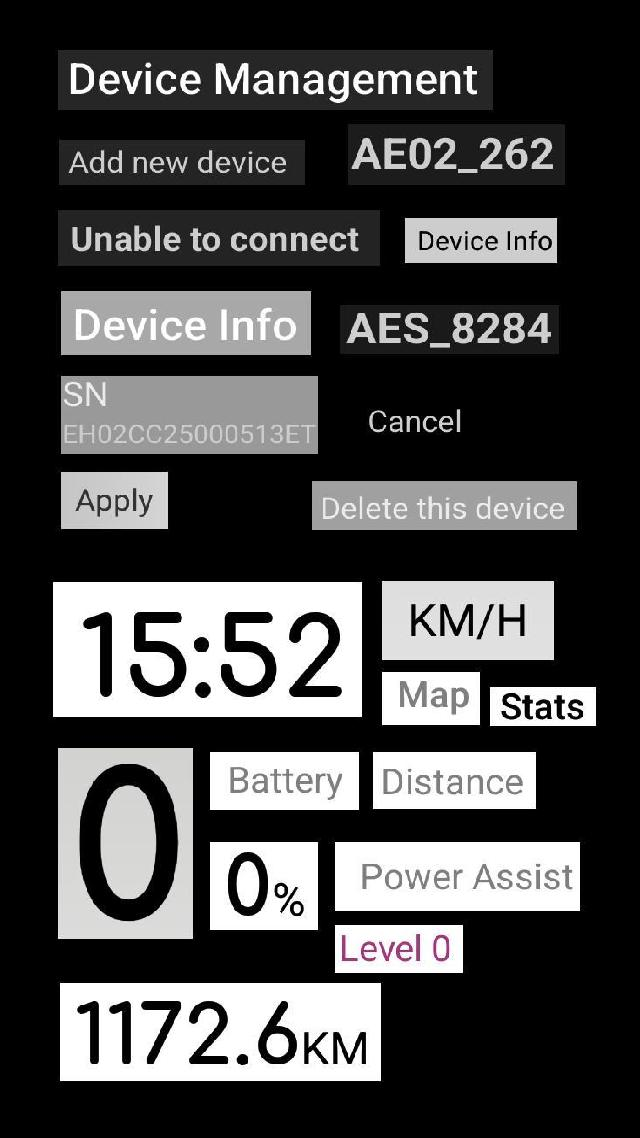Text: (76, 603, 354, 706), (69, 996, 372, 1068), (66, 58, 483, 104), (77, 760, 181, 926), (67, 222, 361, 256), (345, 305, 552, 352), (353, 856, 574, 898), (65, 306, 298, 344), (353, 134, 553, 176), (66, 145, 294, 181), (316, 492, 568, 524), (63, 419, 317, 447), (220, 847, 310, 921), (378, 759, 530, 800), (405, 594, 532, 643), (223, 759, 345, 803), (359, 402, 468, 440), (413, 226, 553, 254), (338, 932, 453, 963), (72, 483, 160, 523), (392, 676, 474, 716), (497, 690, 589, 722), (63, 378, 113, 407)
